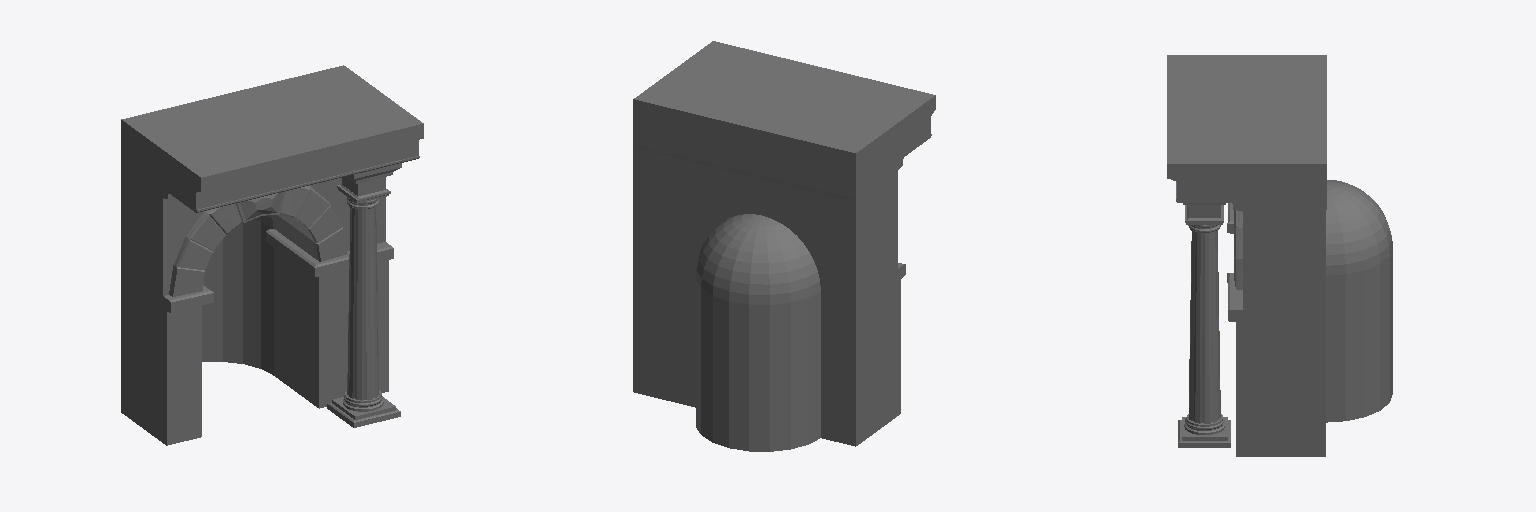
The model's file is ornate_wall_rright.obj.
3 renders of one model, left to right at view 1: azimuth 30°, elevation 25°; view 2: azimuth 150°, elevation 25°; view 3: azimuth 270°, elevation 25°, orthographic.
Visible parts, largest first — view 1: pCylinder9, polySurface21, polySurface20; view 2: pCylinder9, polySurface21; view 3: pCylinder9, polySurface21, polySurface20.
Part boxes in pixels (left/top/right/bottom): pCylinder9: left=121, top=65, right=423, bottom=445; polySurface21: left=202, top=215, right=273, bottom=375; polySurface20: left=327, top=163, right=401, bottom=427; pCylinder9: left=633, top=41, right=935, bottom=446; polySurface21: left=696, top=214, right=820, bottom=451; pCylinder9: left=1167, top=55, right=1326, bottom=456; polySurface21: left=1326, top=180, right=1392, bottom=422; polySurface20: left=1178, top=203, right=1230, bottom=447.
Size of the model in its own units: 38 by 47.83 by 33.41.